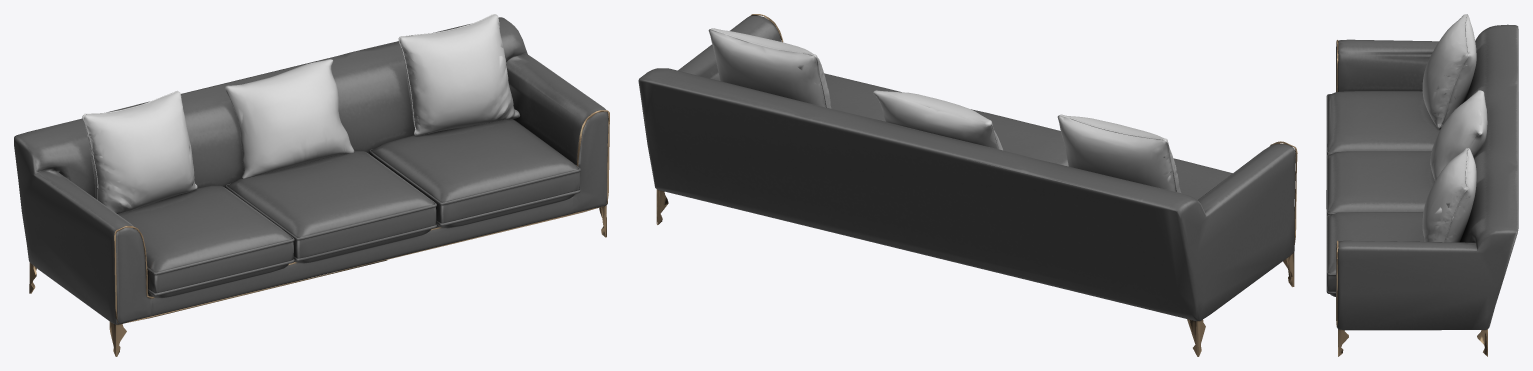
Rendered from raw_model.obj.
3 renders of one model, left to right at view 1: azimuth 30°, elevation 25°; view 2: azimuth 150°, elevation 25°; view 3: azimuth 270°, elevation 25°, orthographic. The views are drawn at different scales.
Parts seen in each view (by area): view 1: solid_001, solid_003, solid_002; view 2: solid_001, solid_003, solid_002; view 3: solid_001, solid_003, solid_002.
Part boxes in pixels (x1,y1,x2,y2): solid_001: (14,17,608,324); solid_003: (82,14,520,213); solid_002: (29,110,609,356); solid_001: (638,15,1295,321); solid_003: (708,28,1181,192); solid_002: (656,14,1297,356); solid_001: (1326,24,1518,330); solid_003: (1422,14,1487,242); solid_002: (1336,40,1487,356).
Bounding box in the file's own units: 2.5 × 0.8577 × 0.9692.
Materials: 1 (1 with a texture image).
